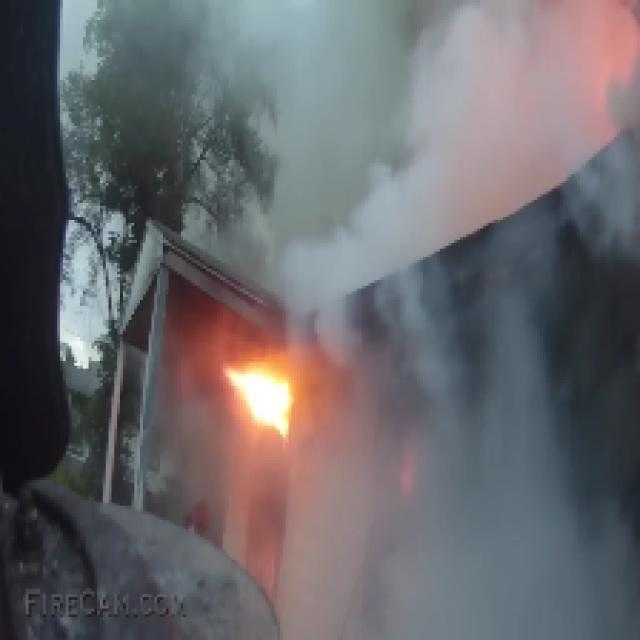Fire: (203, 332, 300, 454)
Smoke: (195, 12, 640, 638)
